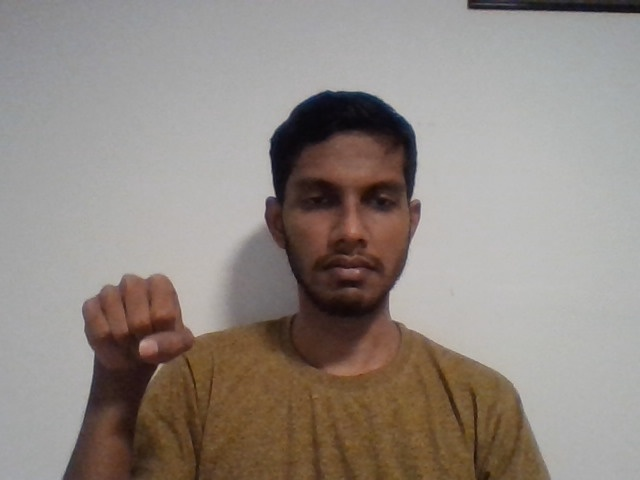yes: (49, 259, 234, 390)
